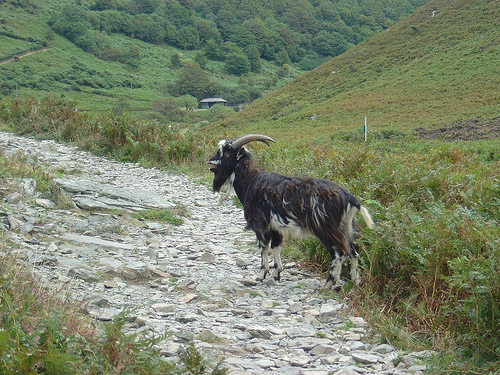goat: (206, 134, 375, 292)
